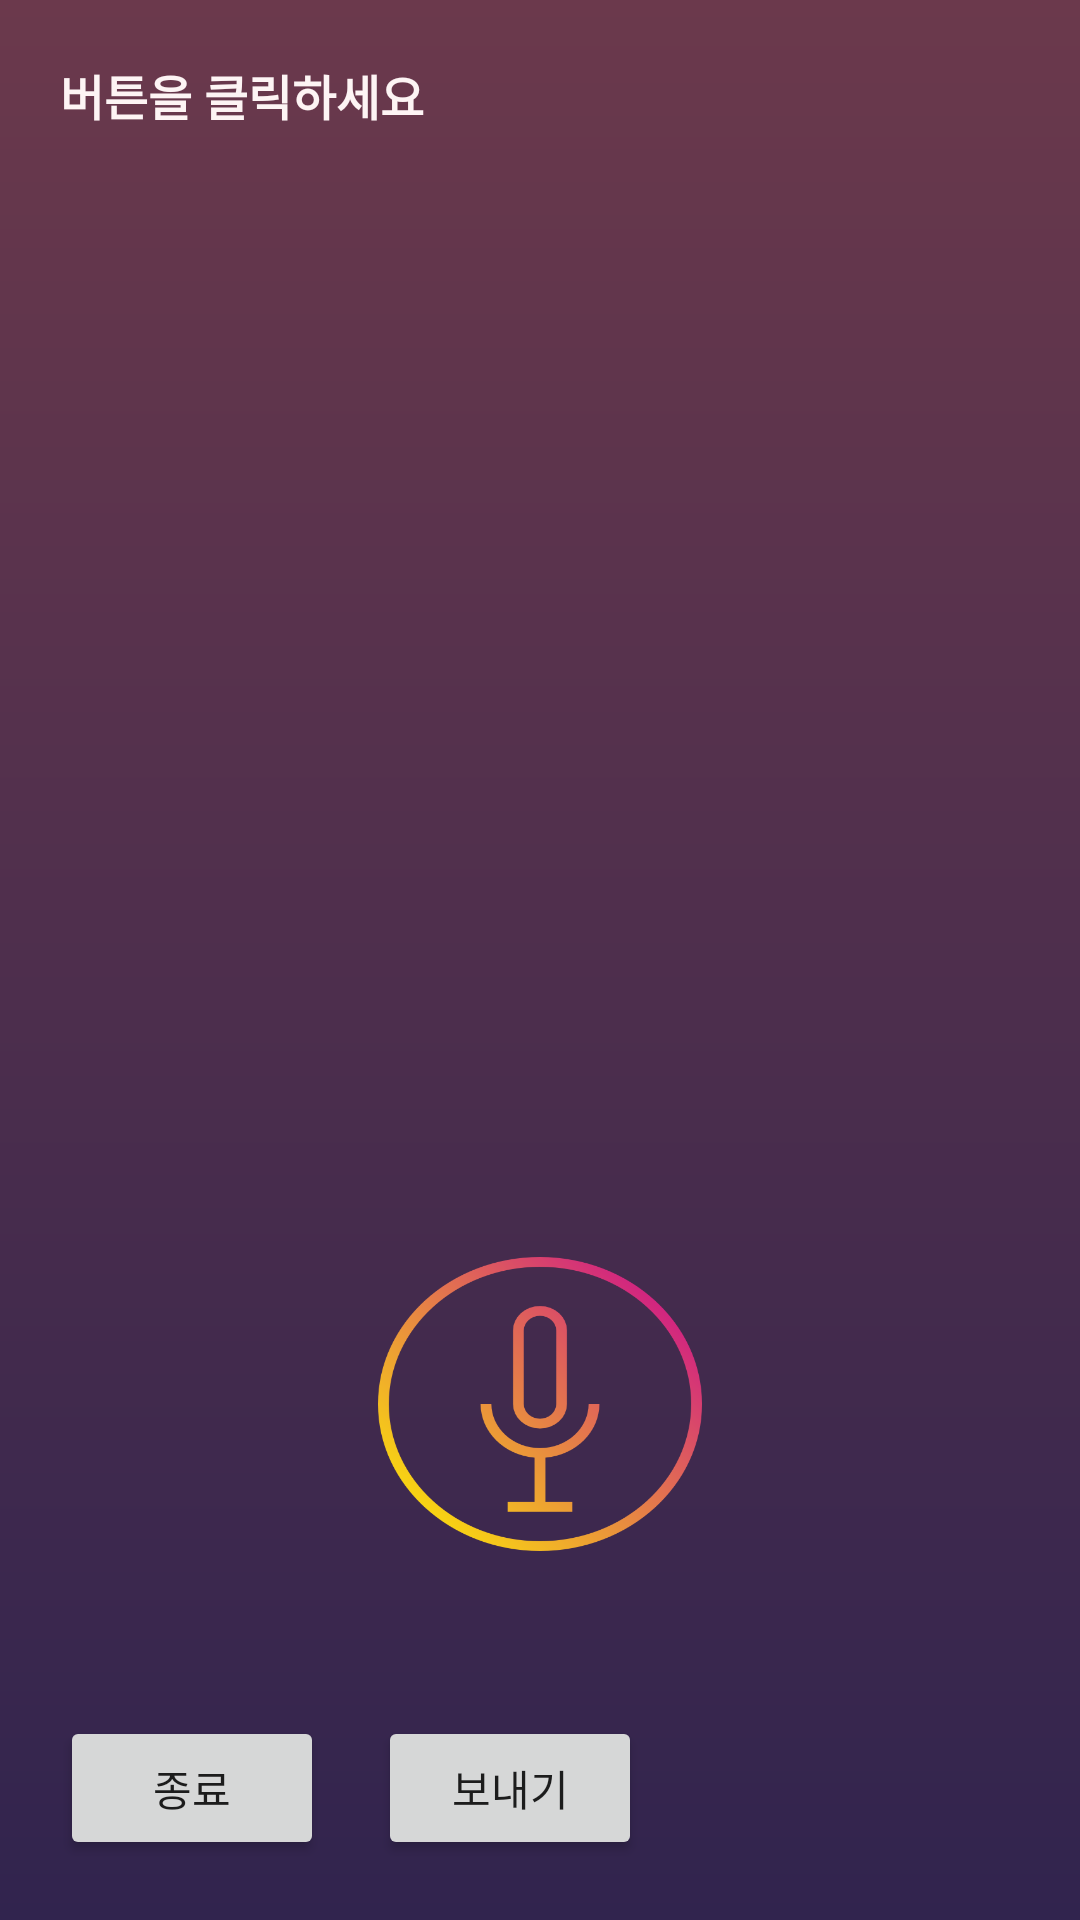

Icons on this 1080px x 1920px Android screen, each with its box as [x1, y1, x2, y2]:
mic: [378, 1257, 702, 1551]
